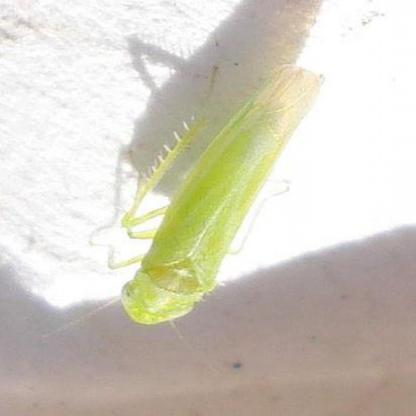green-leafhopper: (122, 70, 322, 332)
